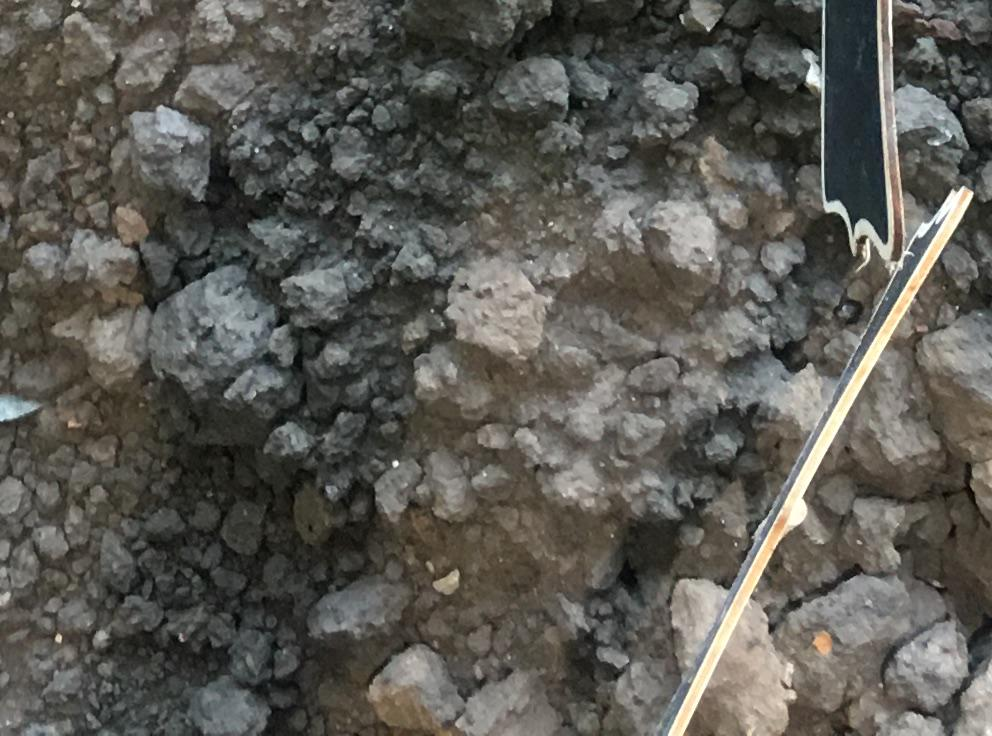block: (784, 560, 943, 723), (135, 275, 277, 399), (119, 109, 215, 200)
